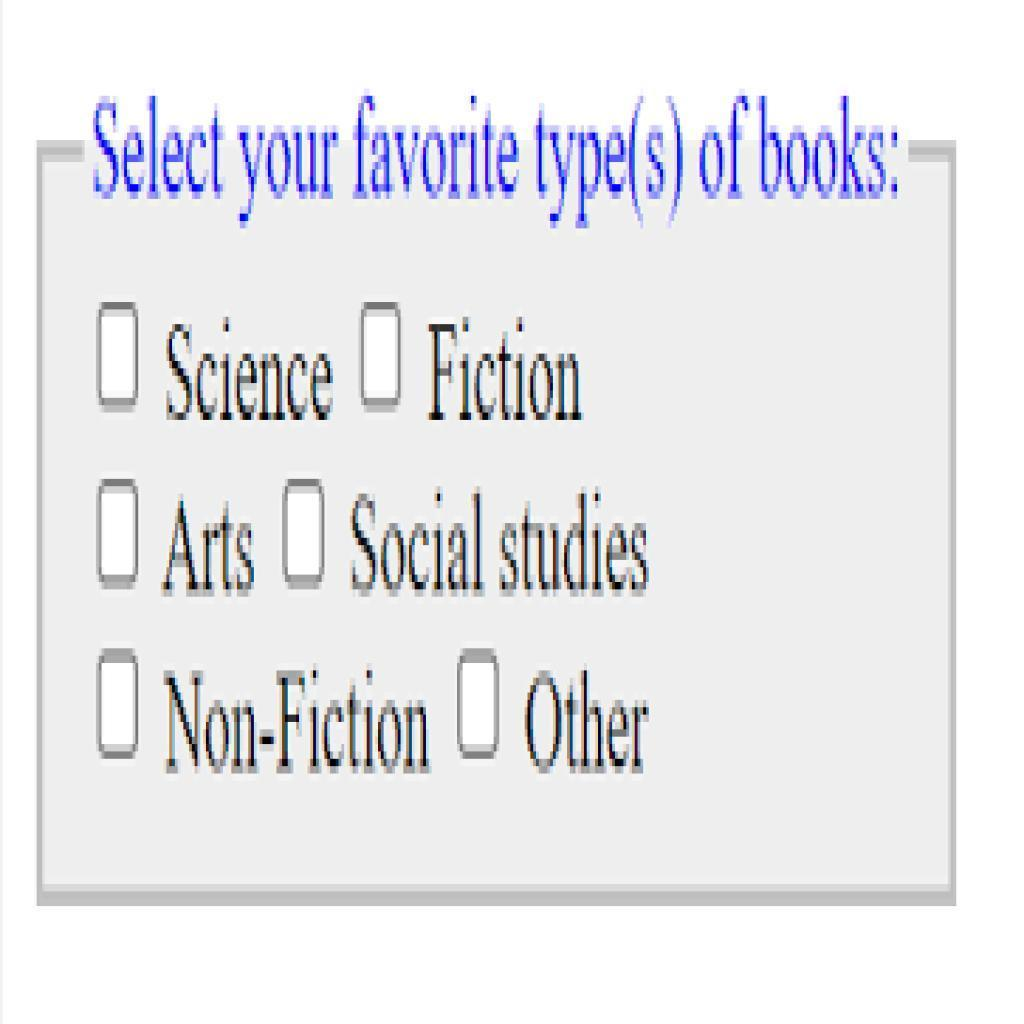checkbox: (99, 483, 138, 588), (99, 658, 140, 753), (459, 659, 500, 753), (363, 309, 403, 405), (287, 487, 326, 585), (100, 307, 136, 409)
label: (346, 490, 658, 602), (160, 661, 437, 775), (162, 322, 341, 428), (424, 317, 591, 428), (521, 665, 656, 778), (159, 494, 262, 596)
